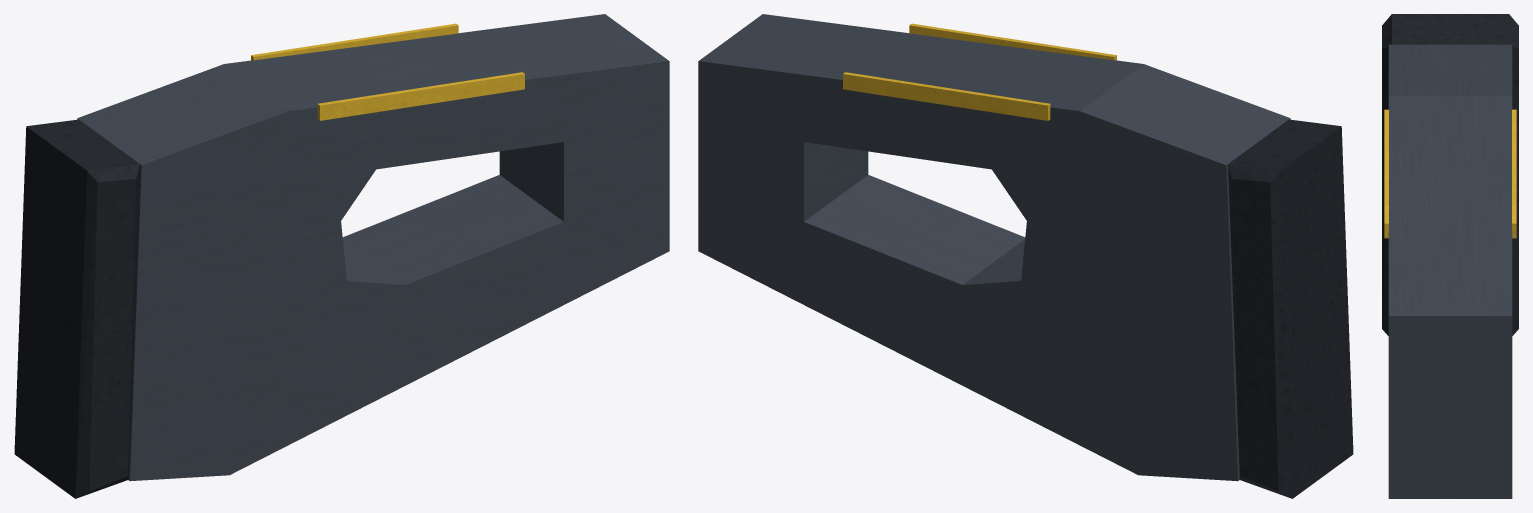
Rendered from stock_thumbhole_v2.glb.
3 views of the same model, side by side, from view 1: azimuth 30°, elevation 25°; view 2: azimuth 150°, elevation 25°; view 3: azimuth 270°, elevation 25° (orthographic). The views are drawn at different scales.
Parts seen in each view (by area): view 1: stock_thumbhole_mesh; view 2: stock_thumbhole_mesh; view 3: stock_thumbhole_mesh.
Boxes of the visible parts, x1=… form: stock_thumbhole_mesh: x1=14, y1=14, x2=669, y2=498; stock_thumbhole_mesh: x1=698, y1=14, x2=1353, y2=498; stock_thumbhole_mesh: x1=1382, y1=14, x2=1518, y2=498.
Size of the model in its own units: 0.202 by 0.114 by 0.042.
Materials: 3 (3 with a texture image).
